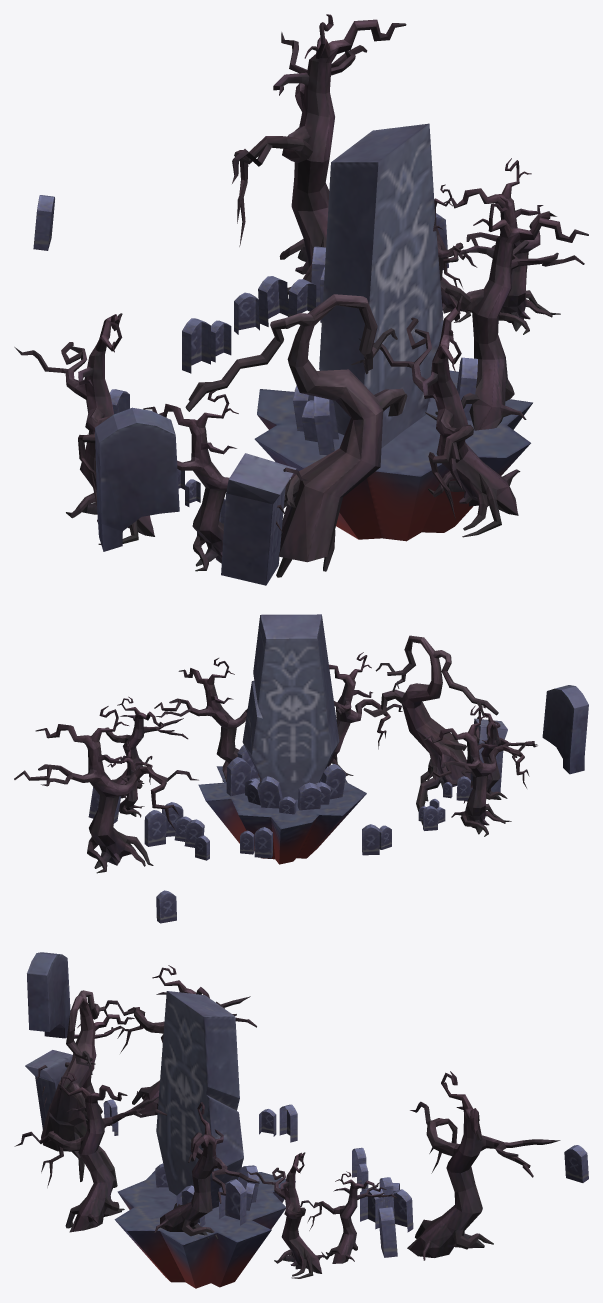
Rendered from Area04_1.fbx.
3 views of the same model, one above another, from view 1: azimuth 30°, elevation 25°; view 2: azimuth 150°, elevation 25°; view 3: azimuth 270°, elevation 25° (orthographic). The views are drawn at different scales.
Parts seen in each view (by area): view 1: Area04_1; view 2: Area04_1; view 3: Area04_1.
Part boxes in pixels (x1,y1,x2,y2): Area04_1: (14, 14, 588, 585); Area04_1: (14, 614, 588, 923); Area04_1: (14, 952, 588, 1288).
Bounding box in the file's own units: 3653 × 2107 × 4146.
